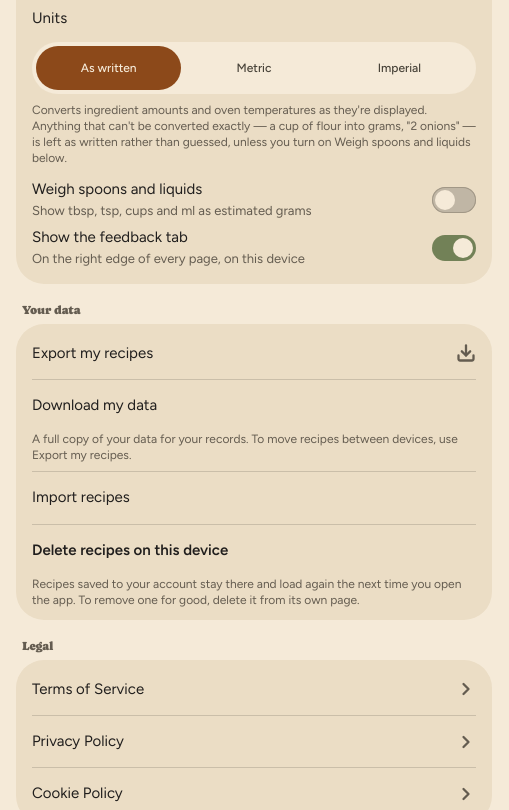
it: Settings: Download my data › notes a partial failure without an alert
The width and height of the screenshot is (509, 810).
(page scrolled)
Click the button "Download my data" at (95, 405), box x1=32 y1=380 x2=476 y2=431
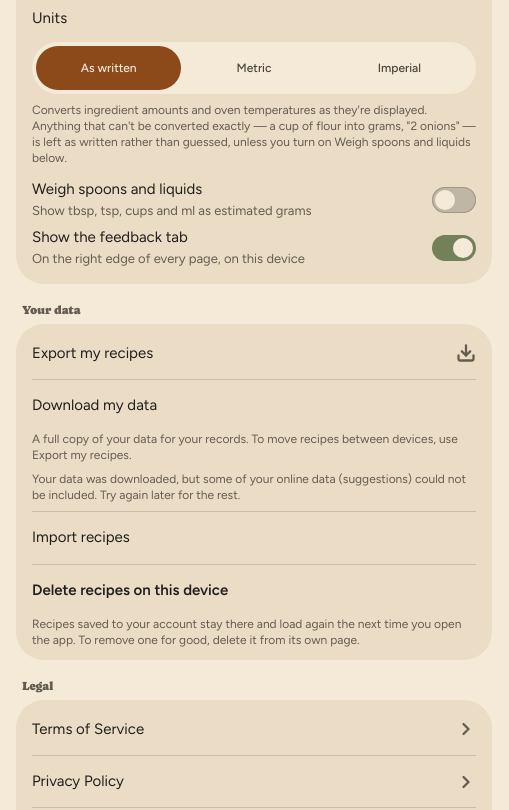
Now the message shows "some of your online data (suggestions) could not be included", box x1=32 y1=472 x2=466 y2=502
